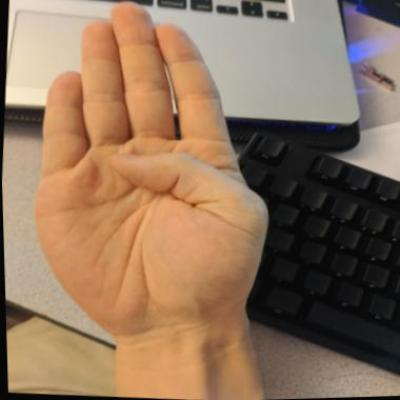hand: (10, 0, 294, 360)
